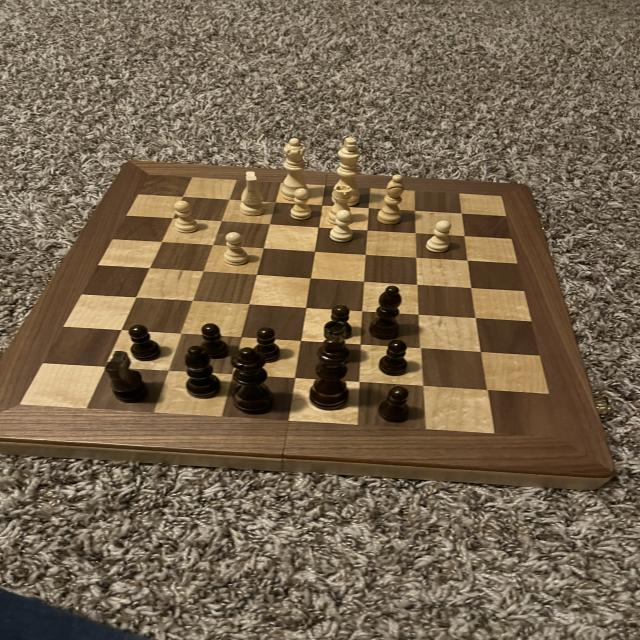bishop: (181, 342, 224, 403), (366, 284, 406, 344)
black-bishop: (306, 335, 356, 412)
black-king: (99, 350, 154, 406)
black-knight: (124, 322, 164, 364), (248, 323, 286, 366), (376, 386, 416, 426), (376, 337, 413, 378), (324, 301, 358, 343), (196, 322, 232, 361)
black-pawn: (223, 342, 272, 418)
black-queen: (318, 317, 356, 369)
black-rook: (374, 171, 415, 229), (320, 182, 355, 229)
white-bishop: (327, 133, 367, 214)
white-king: (234, 169, 271, 221)
white-knight: (218, 230, 254, 271), (284, 185, 318, 223), (171, 198, 201, 236), (327, 208, 358, 244), (425, 219, 453, 255)
white-pawn: (275, 135, 315, 206)
